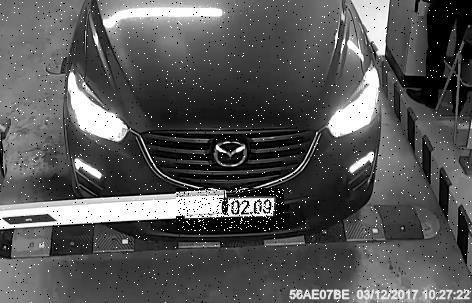License-plate: (177, 190, 285, 233)
